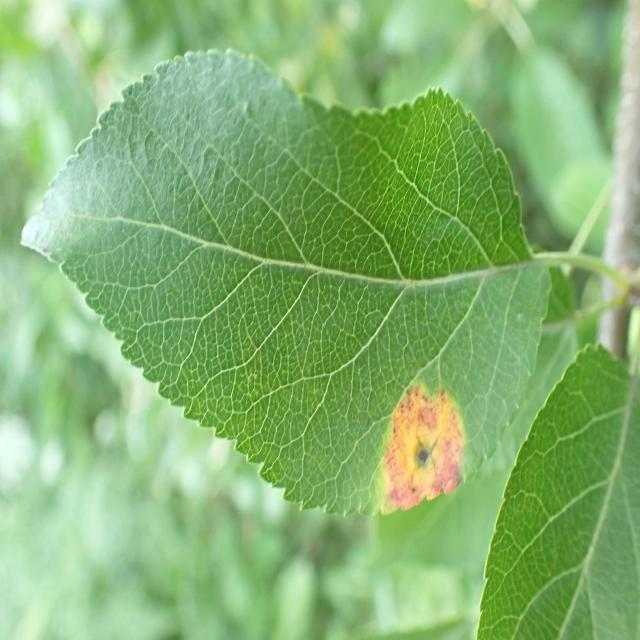rust: (19, 49, 553, 520)
